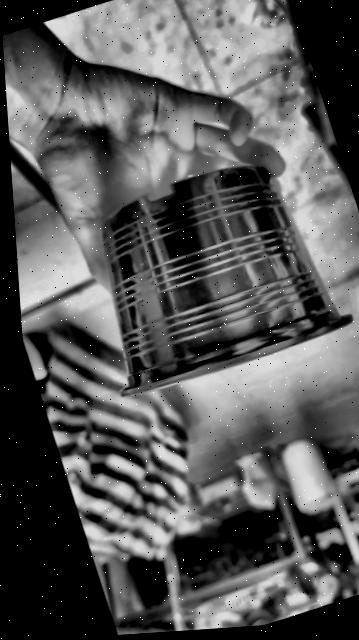pot: (102, 166, 350, 396)
